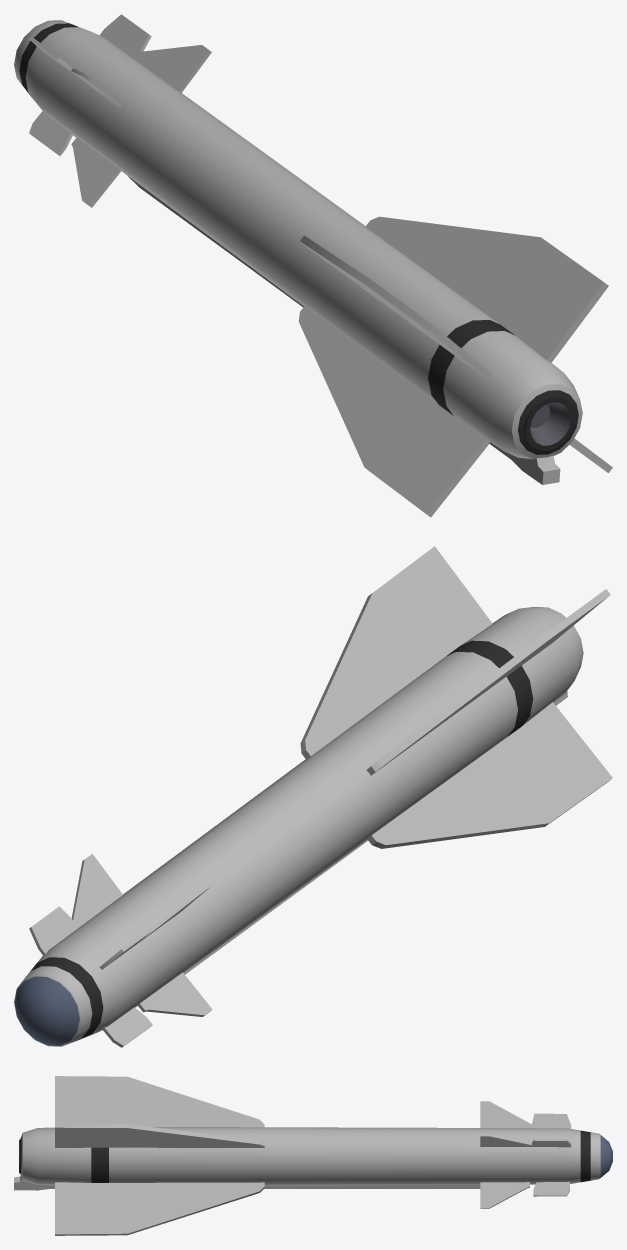
The picture shows the model from 3 angles, top to bottom: view 1: azimuth 30°, elevation 25°; view 2: azimuth 150°, elevation 25°; view 3: azimuth 270°, elevation 25°; orthographic projection. The views are drawn at different scales.
Parts seen in each view (by area): view 1: kh29t; view 2: kh29t; view 3: kh29t.
Part boxes in pixels (x1=…): kh29t: x1=14, y1=14, x2=612, y2=517; kh29t: x1=14, y1=546, x2=612, y2=1047; kh29t: x1=14, y1=1076, x2=612, y2=1235.
Size of the model in its own units: 0.8341 by 0.8246 by 4.02.
